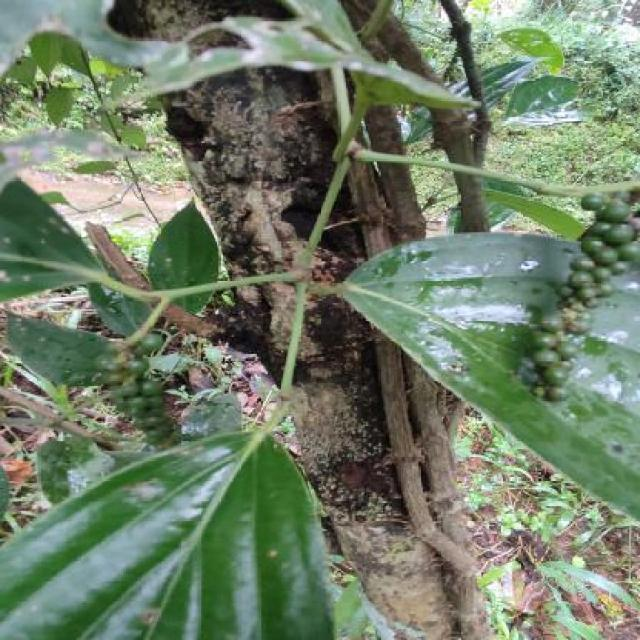UNRIPE: (531, 189, 637, 400), (95, 331, 180, 446)
